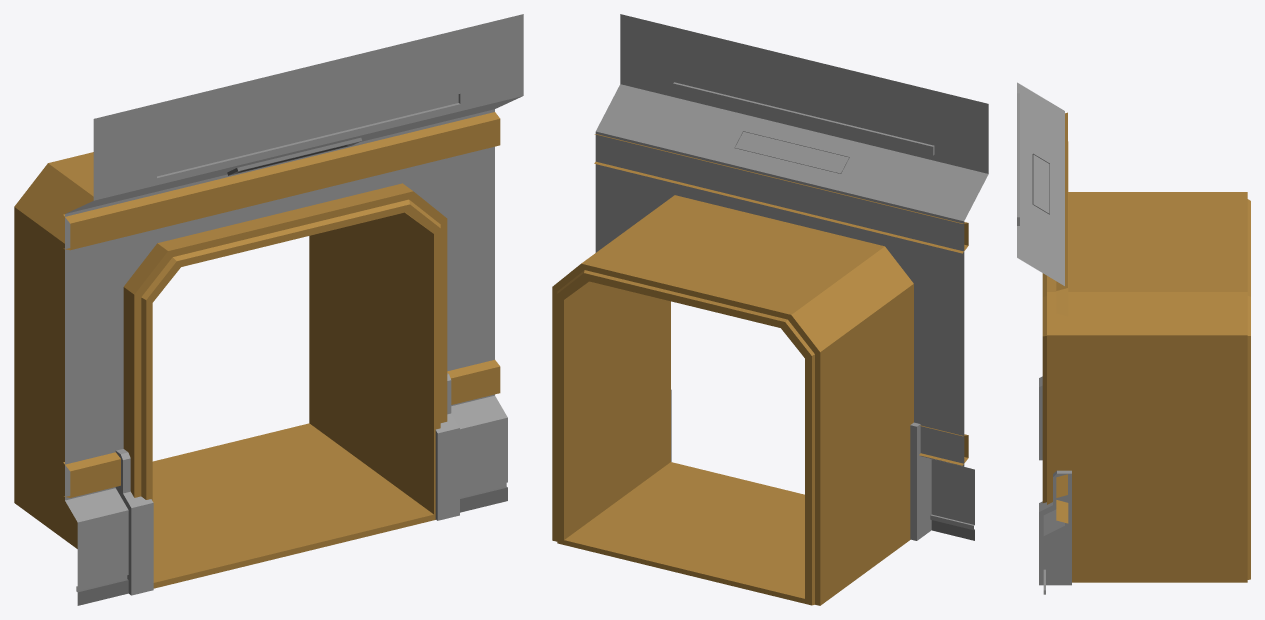
File: DoorDoubleLong_Wall_SideA.glb
The picture shows the model from 3 angles, left to right: view 1: azimuth 30°, elevation 25°; view 2: azimuth 150°, elevation 25°; view 3: azimuth 270°, elevation 25°; orthographic projection. The views are drawn at different scales.
Visible parts, largest first — view 1: DoorDoubleLong_Wall_SideA; view 2: DoorDoubleLong_Wall_SideA; view 3: DoorDoubleLong_Wall_SideA.
Part boxes in pixels (x1,y1,x2,y2): DoorDoubleLong_Wall_SideA: (14,14,523,605); DoorDoubleLong_Wall_SideA: (552,14,988,605); DoorDoubleLong_Wall_SideA: (1017,82,1250,594).
Bounding box in the file's own units: 1.36 × 1.51 × 0.7663.
